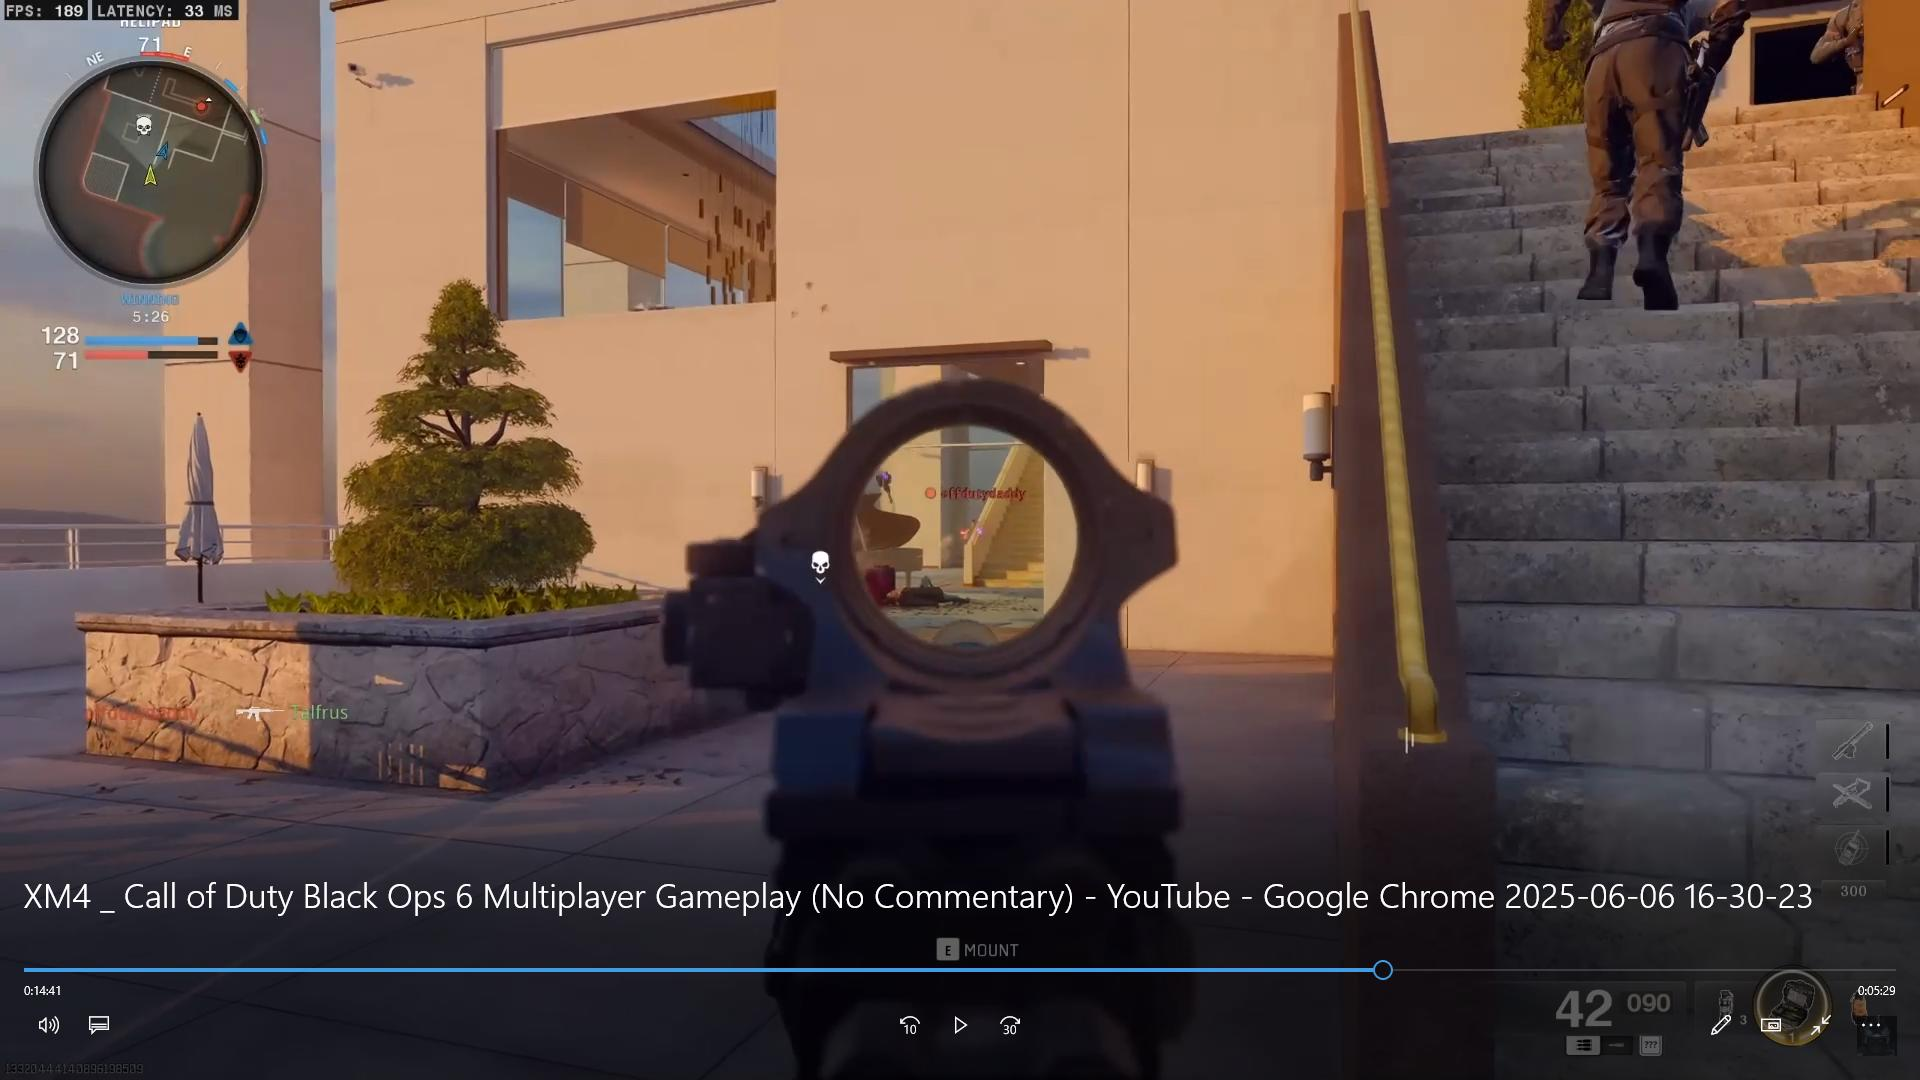Enemy: (960, 504, 984, 547)
